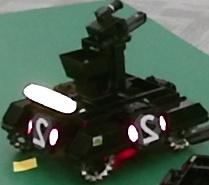armor_2: (128, 116, 166, 141), (29, 120, 58, 145)
back_2: (32, 113, 51, 148)
light: (23, 83, 77, 113)
right_2: (134, 114, 162, 146)
